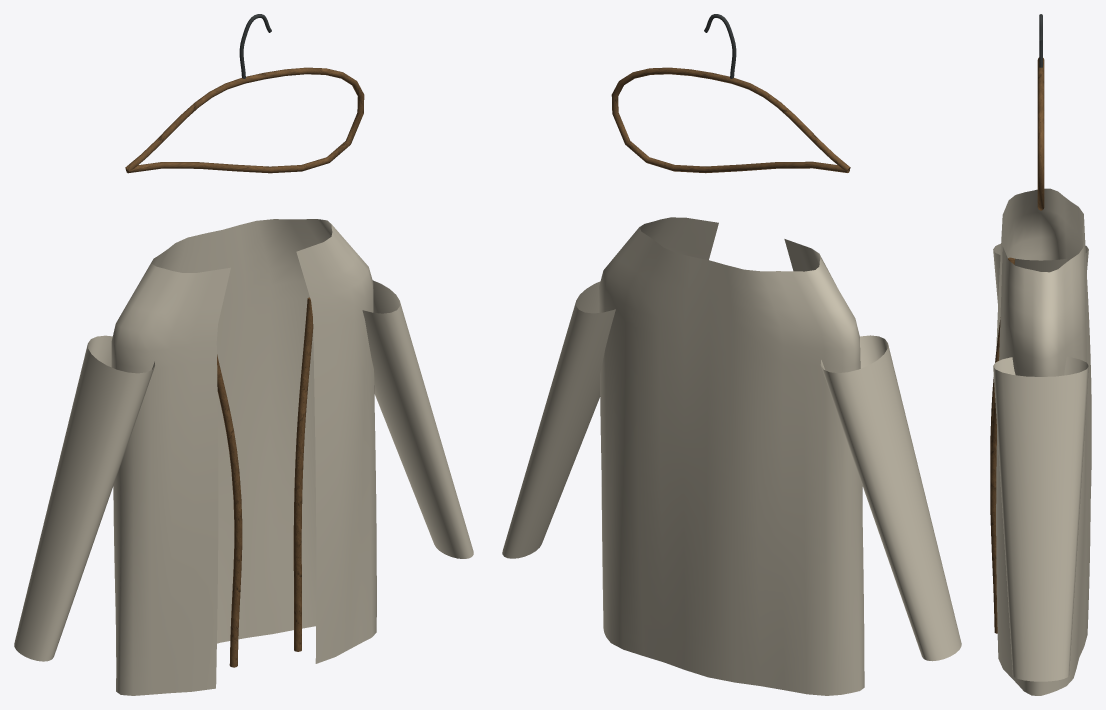
Rendered from sku_v23_cardigan.glb.
The picture shows the model from 3 angles, left to right: view 1: azimuth 30°, elevation 25°; view 2: azimuth 150°, elevation 25°; view 3: azimuth 270°, elevation 25°; orthographic projection. The views are drawn at different scales.
Parts seen in each view (by area): view 1: sku_v23_cardigan_Woven_1, sku_v23_cardigan_CC0_Oak_veneer; view 2: sku_v23_cardigan_Woven_1, sku_v23_cardigan_CC0_Oak_veneer; view 3: sku_v23_cardigan_Woven_1, sku_v23_cardigan_CC0_Oak_veneer, sku_v23_cardigan_Anodised_graphite.
Part boxes in pixels (x1,y1,x2,y2): sku_v23_cardigan_Woven_1: [14, 219, 473, 695]; sku_v23_cardigan_CC0_Oak_veneer: [125, 67, 364, 667]; sku_v23_cardigan_Woven_1: [502, 217, 961, 695]; sku_v23_cardigan_CC0_Oak_veneer: [611, 67, 850, 173]; sku_v23_cardigan_Woven_1: [993, 188, 1091, 695]; sku_v23_cardigan_CC0_Oak_veneer: [990, 57, 1044, 633]; sku_v23_cardigan_Anodised_graphite: [1039, 14, 1042, 67].
Size of the model in its own units: 0.7673 by 1.05 by 0.1549.
3 materials, 1 textured.
